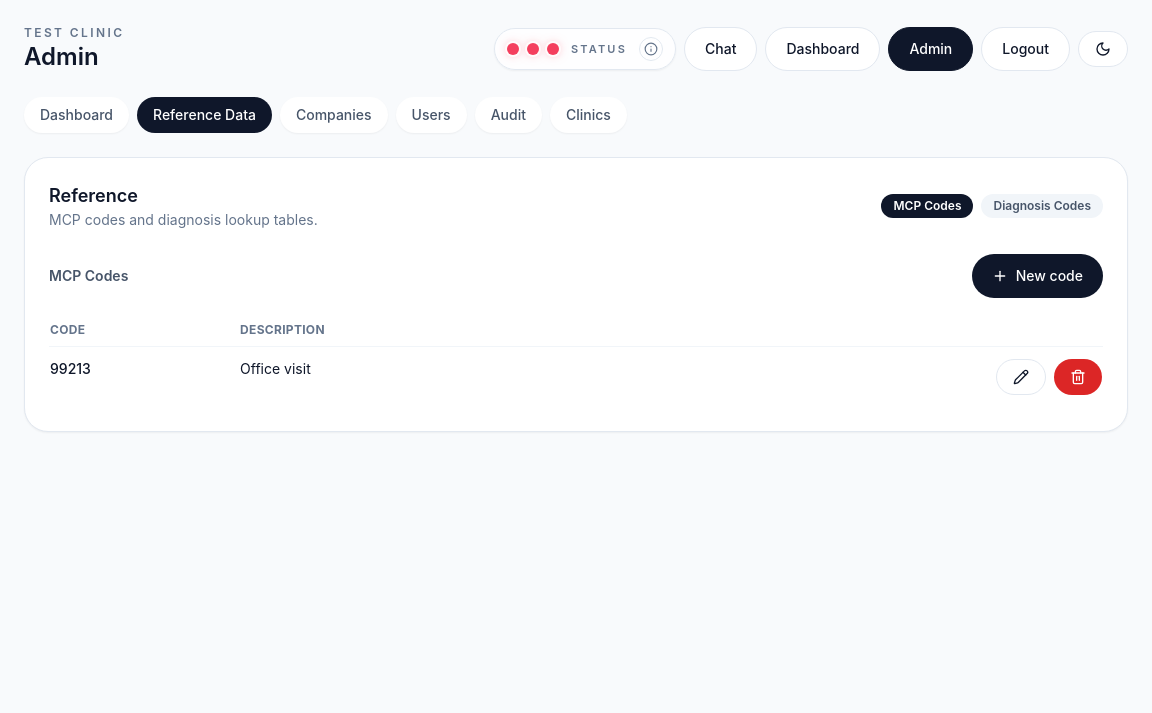
it: admin ui › policy rules page loads for admin
Click the button "Companies".
click(334, 115)  # box [280, 97, 388, 133]
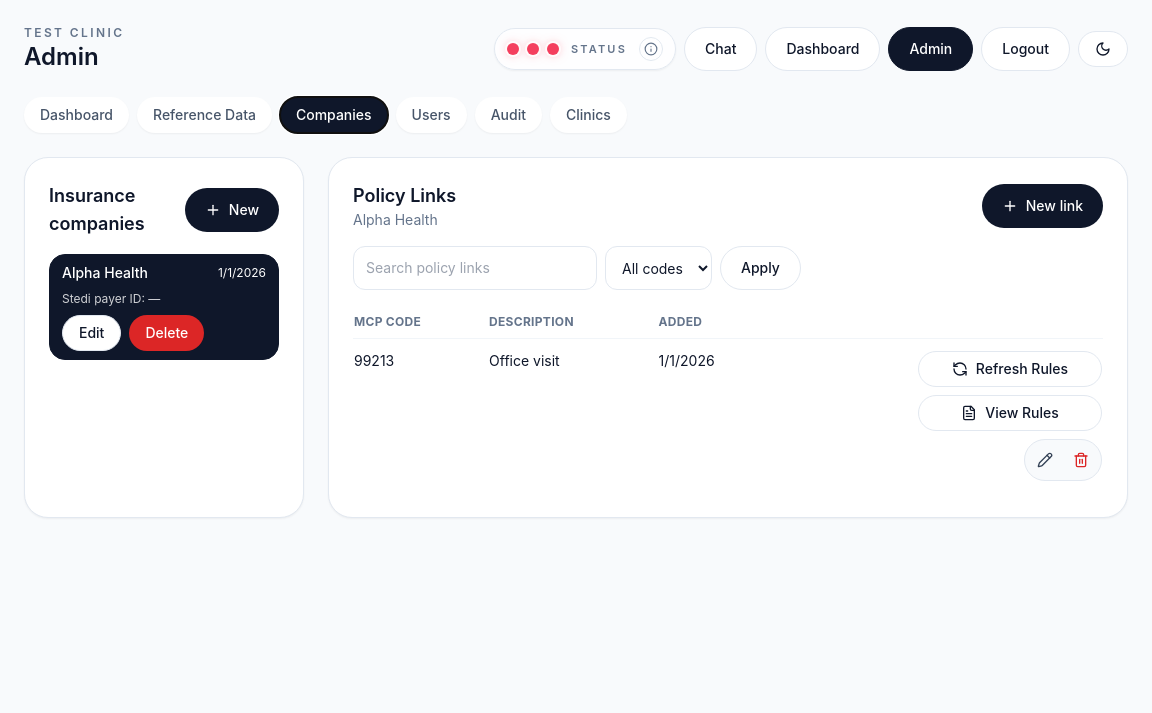
Expected: the text "Office visit" is shown, [488, 338, 658, 493]
Expected: the button "Refresh Rules" is shown, [918, 351, 1102, 387]
Click the button "View Rules".
click(1010, 413)  # box [918, 395, 1102, 431]
(page scrolled)
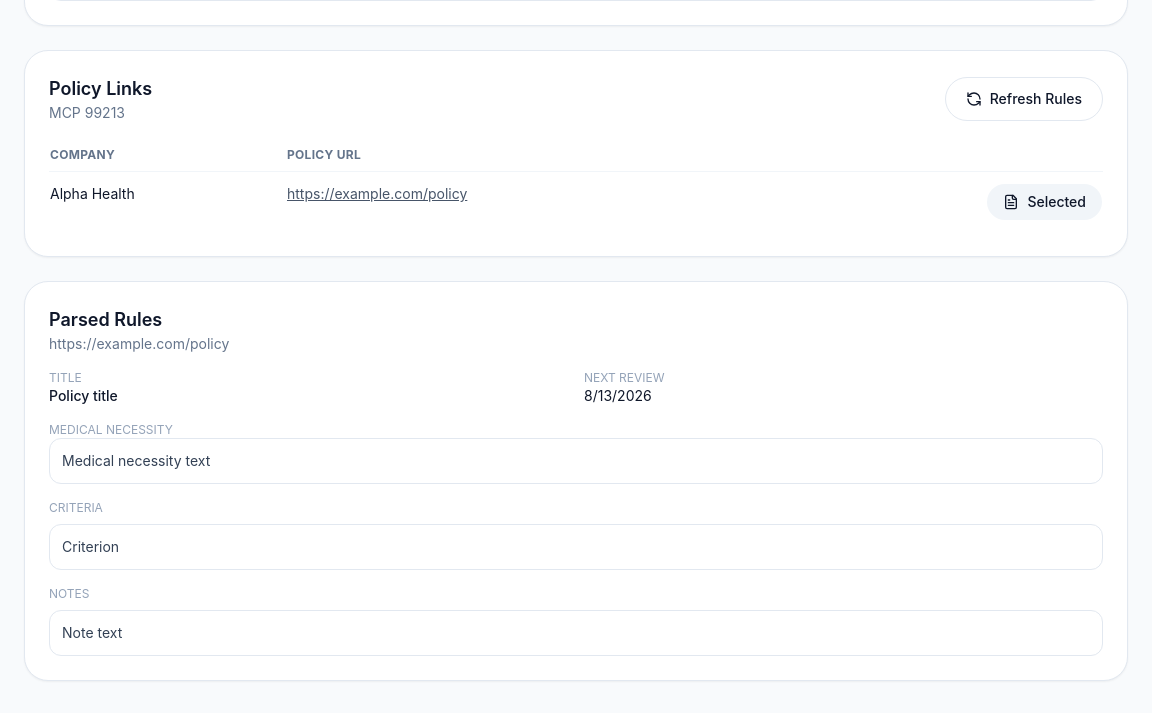
Expected: the text "Policy title" is shown, [49, 387, 118, 404]
Expected: the text "Medical necessity text" is shown, [49, 438, 1103, 484]
